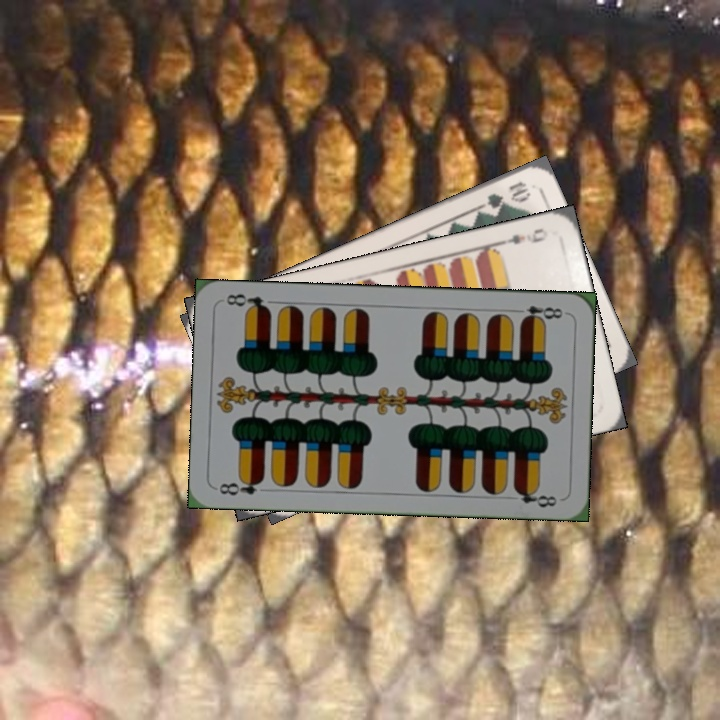E8: (510, 302, 566, 325), (215, 474, 266, 499)
E9: (494, 224, 551, 248)
G10: (475, 177, 534, 212)
